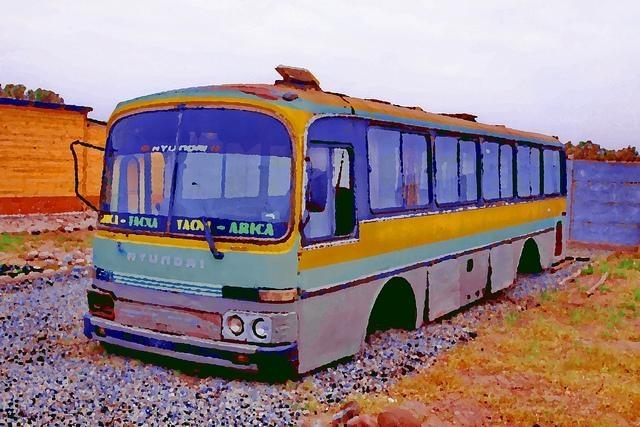bus: (72, 66, 570, 380)
